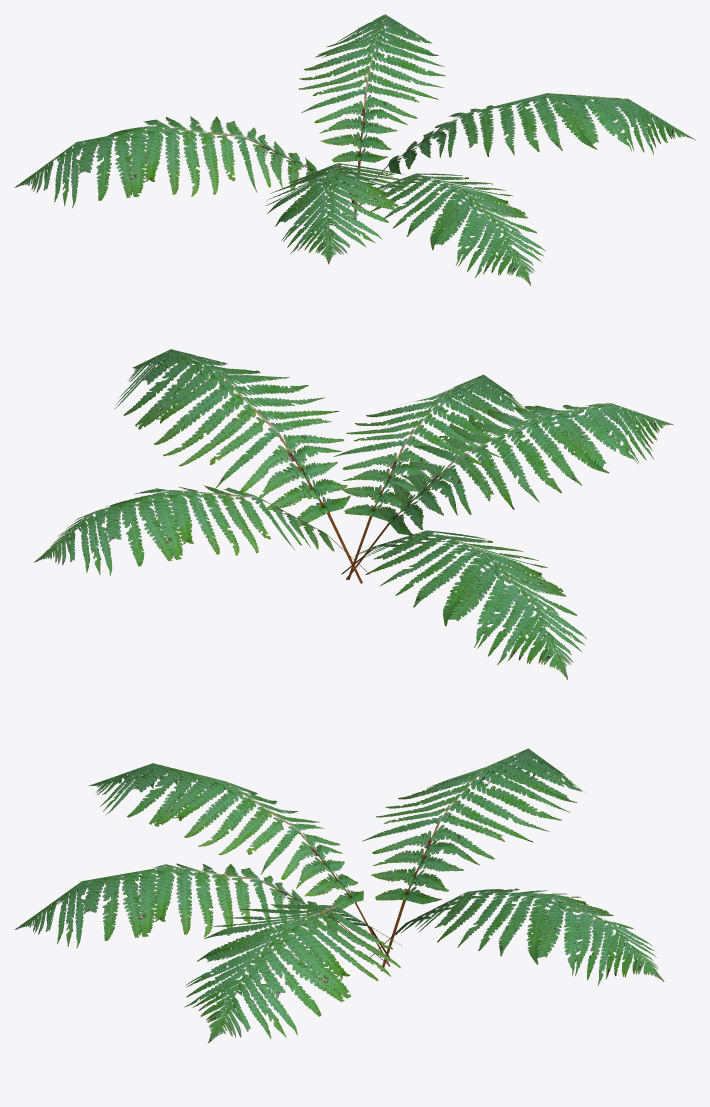
File: Fern_02_01.obj
3 renders of one model, top to bottom at view 1: azimuth 30°, elevation 25°; view 2: azimuth 150°, elevation 25°; view 3: azimuth 270°, elevation 25°, orthographic. The views are drawn at different scales.
Visible parts, largest first — view 1: polySurface11; view 2: polySurface11; view 3: polySurface11.
Boxes of the visible parts, box(x1,y1,x2,y2) form: polySurface11: box(14, 14, 695, 285); polySurface11: box(34, 349, 673, 679); polySurface11: box(14, 748, 664, 1042).
Bounding box in the file's own units: 28.16 × 5.46 × 25.21.
